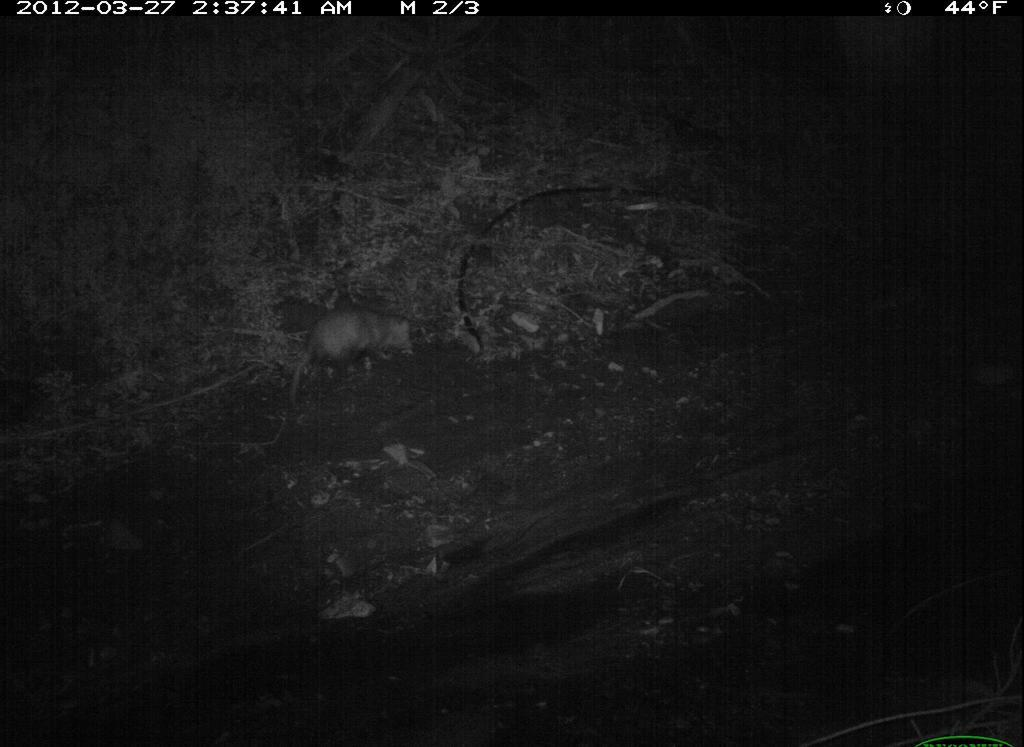opossum: (273, 305, 424, 413)
